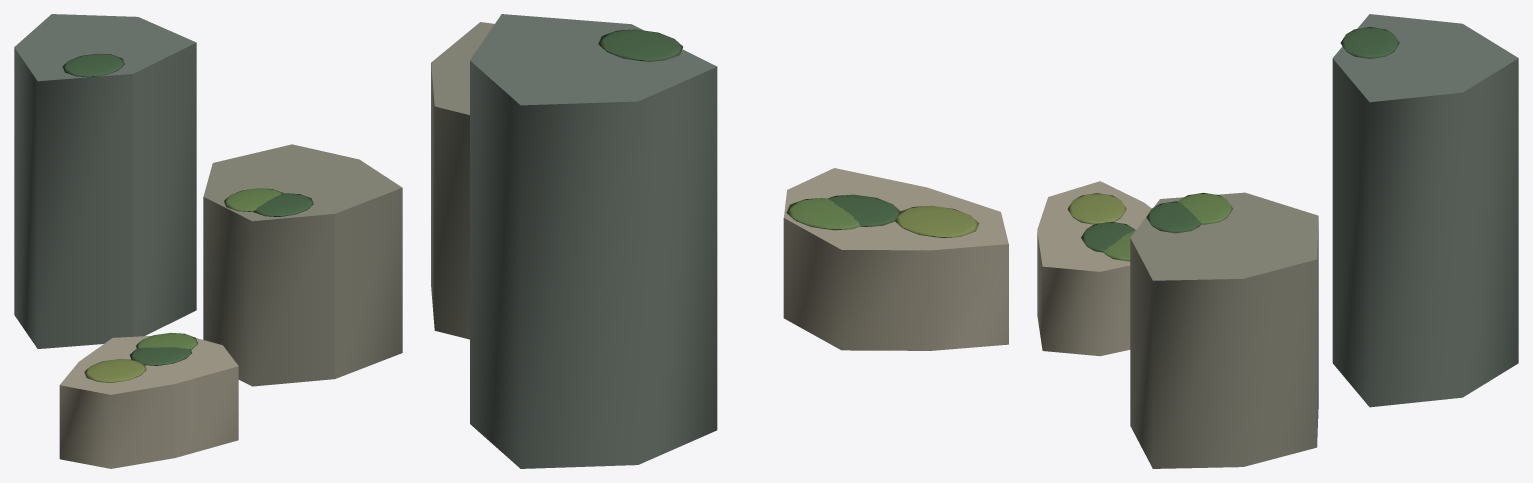
3 views of the same model, side by side, from view 1: azimuth 30°, elevation 25°; view 2: azimuth 150°, elevation 25°; view 3: azimuth 270°, elevation 25° (orthographic). The views are drawn at different scales.
Visible parts, largest first — view 1: climb-rocks-5-0, climb-rocks-5-1, climb-rocks-5-2, 바위 06; view 2: climb-rocks-5-0, climb-rocks-5-2, climb-rocks-5-1, 바위 06; view 3: climb-rocks-5-0, climb-rocks-5-1, climb-rocks-5-2, 바위 06.
Boxes of the visible parts, x1,y1,x2,y2 form: climb-rocks-5-0: (14, 14, 196, 348); climb-rocks-5-1: (203, 144, 402, 386); climb-rocks-5-2: (59, 336, 238, 468); 바위 06: (62, 53, 313, 382); climb-rocks-5-0: (470, 14, 717, 468); climb-rocks-5-2: (783, 168, 1008, 350); climb-rocks-5-1: (431, 22, 494, 339); 바위 06: (598, 29, 979, 238); climb-rocks-5-0: (1332, 14, 1518, 407); climb-rocks-5-1: (1130, 192, 1318, 468); climb-rocks-5-2: (1037, 181, 1151, 356); 바위 06: (1067, 27, 1399, 261).
Size of the model in its own units: 2.92 by 2.07 by 2.92.
